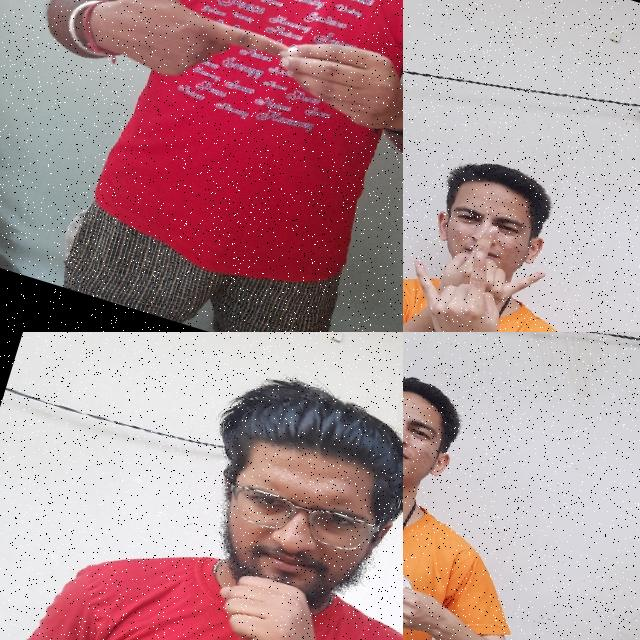Corna: (425, 205, 562, 332), (403, 227, 530, 332)
Fist Mouth: (145, 361, 403, 640)
Five Fathers: (80, 0, 403, 160), (403, 507, 459, 640)
